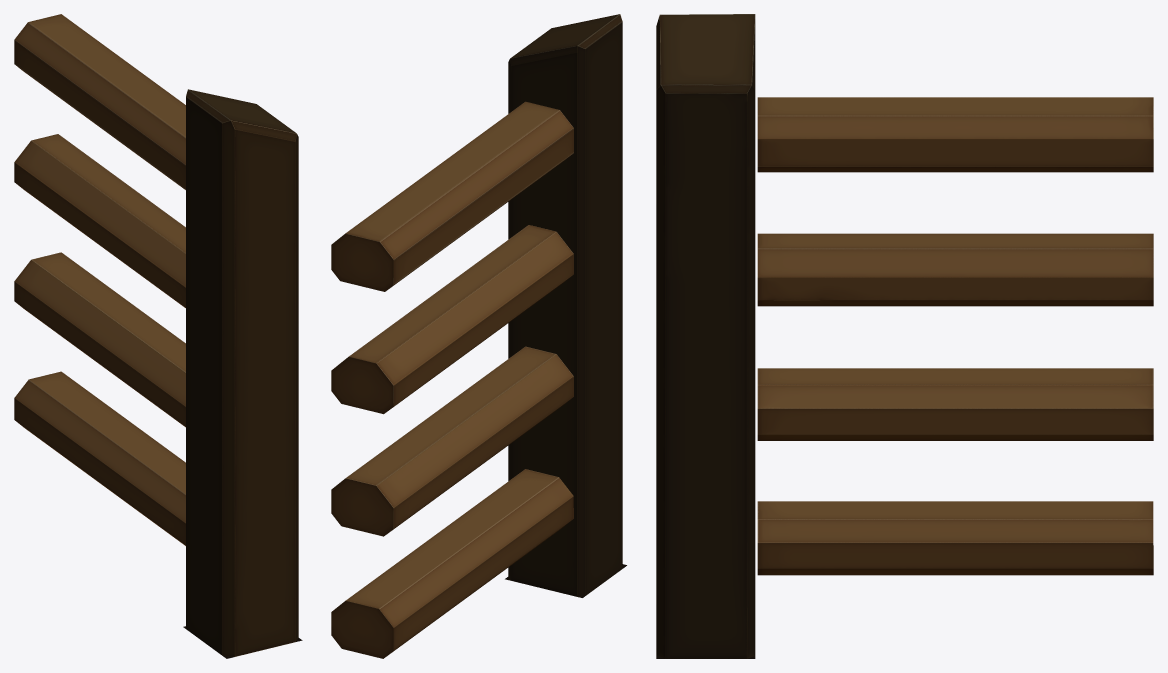
File: WodenFence2.fbx
The picture shows the model from 3 angles, left to right: view 1: azimuth 30°, elevation 25°; view 2: azimuth 150°, elevation 25°; view 3: azimuth 270°, elevation 25°; orthographic projection. The views are drawn at different scales.
Visible parts, largest first — view 1: Plane.001, Plane.003; view 2: Plane.003, Plane.001; view 3: Plane.003, Plane.001.
Part boxes in pixels (x1,y1,x2,y2): Plane.001: [183, 89, 302, 658]; Plane.003: [14, 14, 185, 545]; Plane.003: [331, 101, 573, 658]; Plane.001: [505, 14, 626, 597]; Plane.003: [757, 97, 1153, 575]; Plane.001: [656, 14, 755, 658].
Size of the model in its own units: 50 by 338 by 251.
2 materials, 2 textured.
